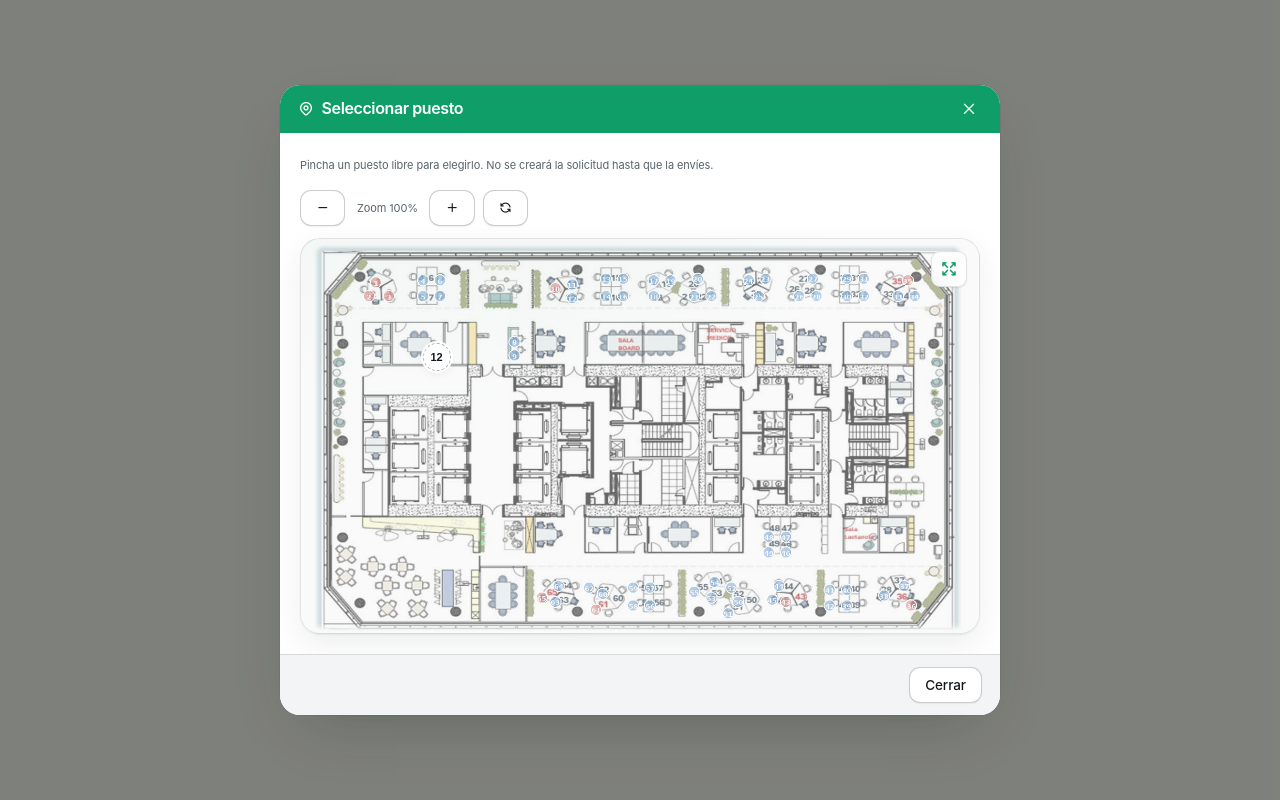
Scenario: DeskPickerModal (floor plan as selector) › should_mark_selected_desk_with_class_aria_and_status_message
Step 1. Click the button "12" → (437, 357), box [423,343,451,371]
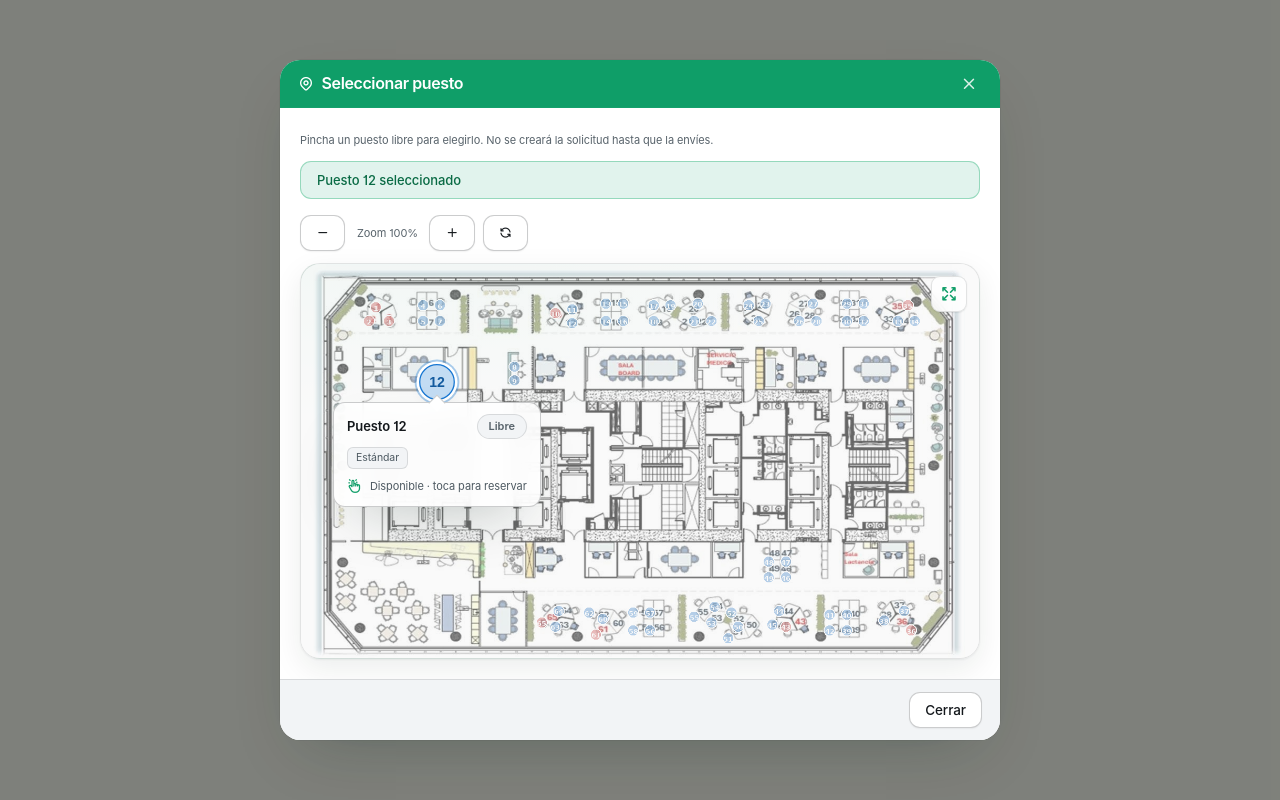
Now the message reads "Puesto 12 seleccionado", box [317,172,461,188]
